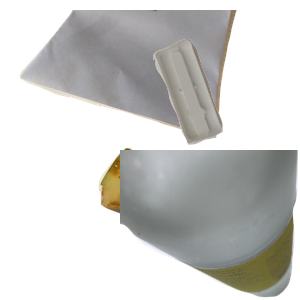glass: (120, 150, 300, 300)
paper: (17, 10, 254, 141)
plastic: (150, 36, 300, 173)
trash: (96, 145, 295, 300)
